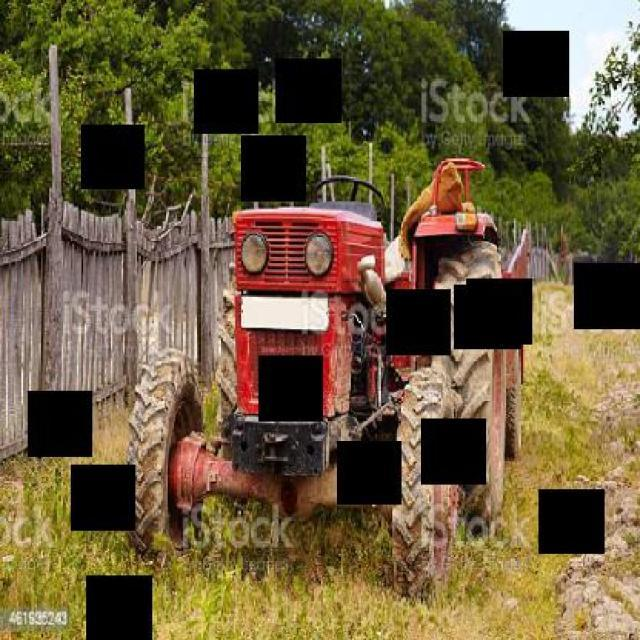Tratores - v5 YOLO V8L 2024-11-13: (70, 104, 526, 634), (137, 140, 396, 589)
